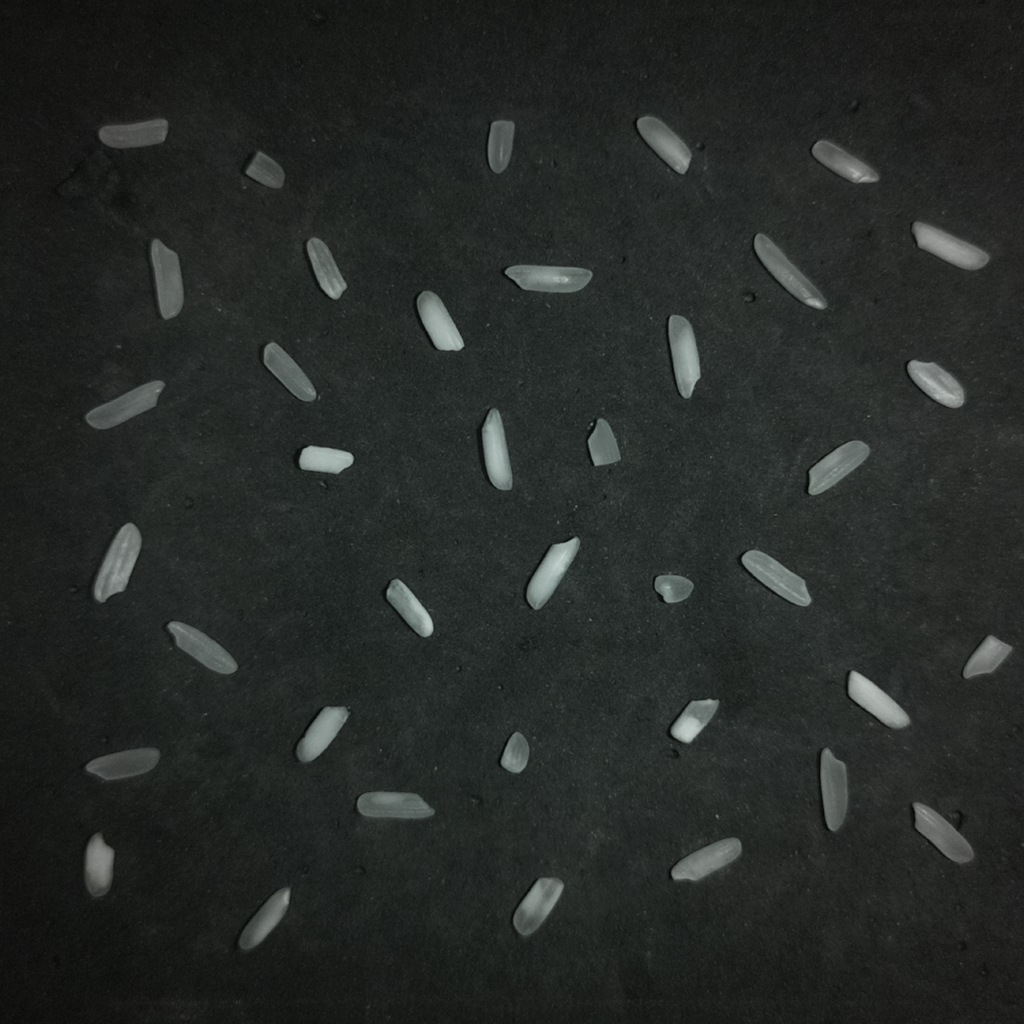broken: (588, 418, 620, 466), (244, 151, 284, 188), (487, 120, 514, 173), (500, 732, 529, 773), (654, 574, 693, 603)
chalky: (526, 537, 580, 610), (912, 221, 989, 270), (848, 671, 909, 728), (238, 887, 290, 952), (636, 115, 691, 174), (671, 837, 741, 881), (297, 706, 349, 762), (513, 878, 563, 936), (416, 291, 463, 350), (668, 315, 700, 398), (481, 408, 512, 490), (670, 699, 719, 743), (83, 832, 114, 897), (299, 446, 353, 473)
foreign: (962, 635, 1011, 678)
whole: (754, 233, 826, 309), (741, 550, 810, 606), (85, 381, 164, 429), (93, 523, 141, 602), (166, 621, 237, 674), (912, 802, 973, 863), (808, 440, 869, 494), (263, 343, 316, 401), (811, 140, 878, 183), (386, 578, 433, 637), (149, 239, 183, 318), (907, 360, 964, 407), (306, 237, 346, 299), (85, 747, 159, 780), (505, 265, 592, 292), (819, 748, 846, 831), (357, 791, 434, 819), (98, 118, 167, 148)
